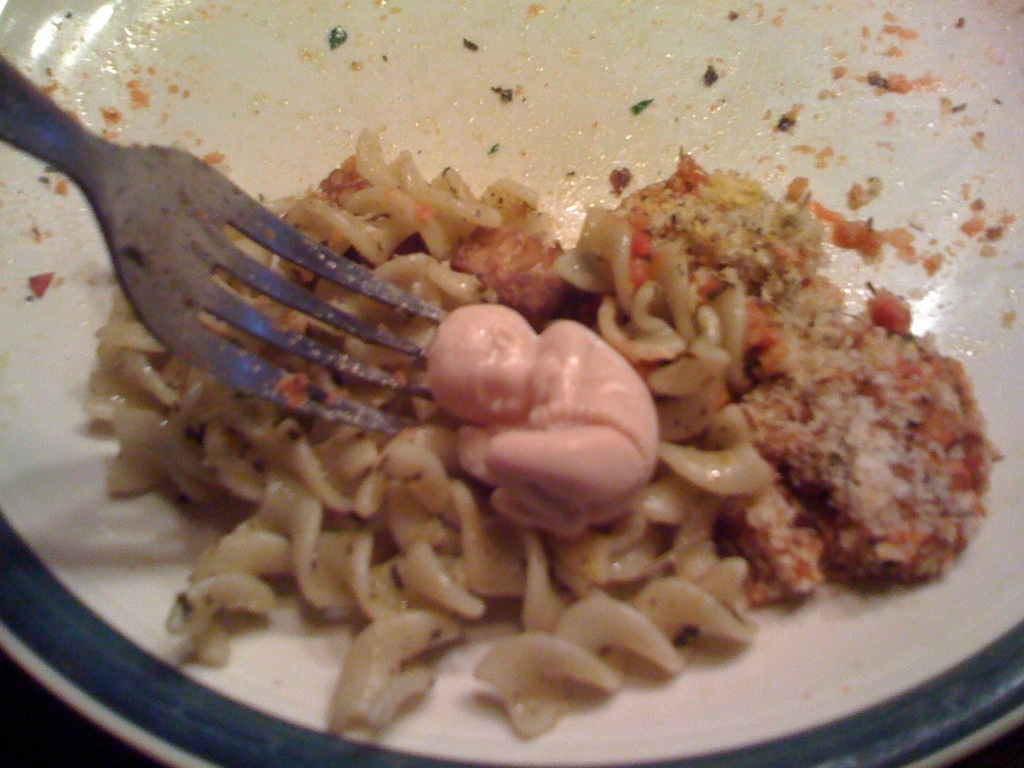pasta: (86, 121, 776, 739)
